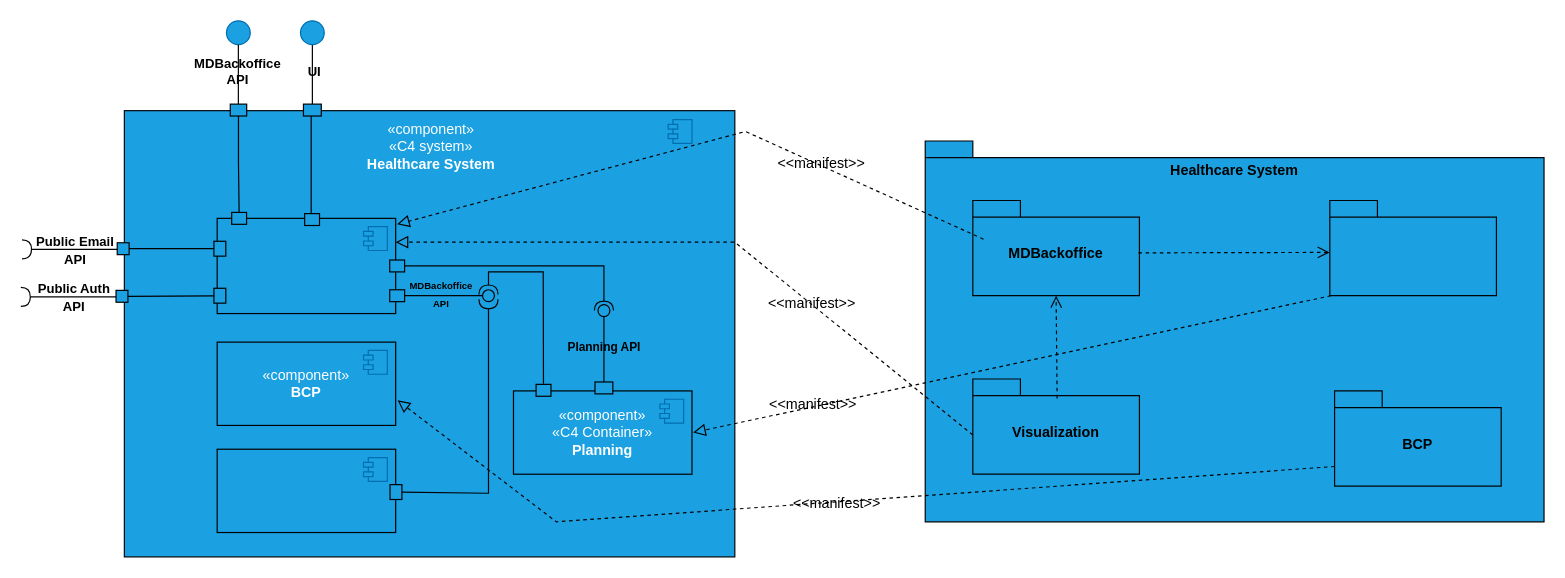
The diagram is 1565 pixels wide and 578 high, and some of its shapes have lost their labels. The shapes that lost their labels are listed below. From the top down, each one's centre as x and y in pixels, then its label:
the point at 306,265: «component» WebApplication
the point at 1412,247: Planning
the point at 306,490: «component» GDPR
